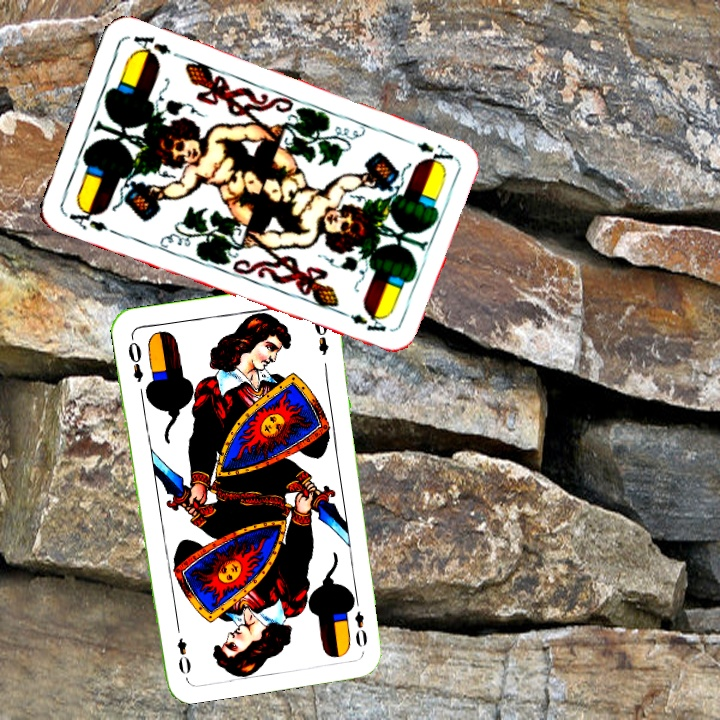EA: (399, 134, 456, 166), (62, 201, 111, 234)
EO: (346, 593, 370, 650), (124, 333, 146, 385)
